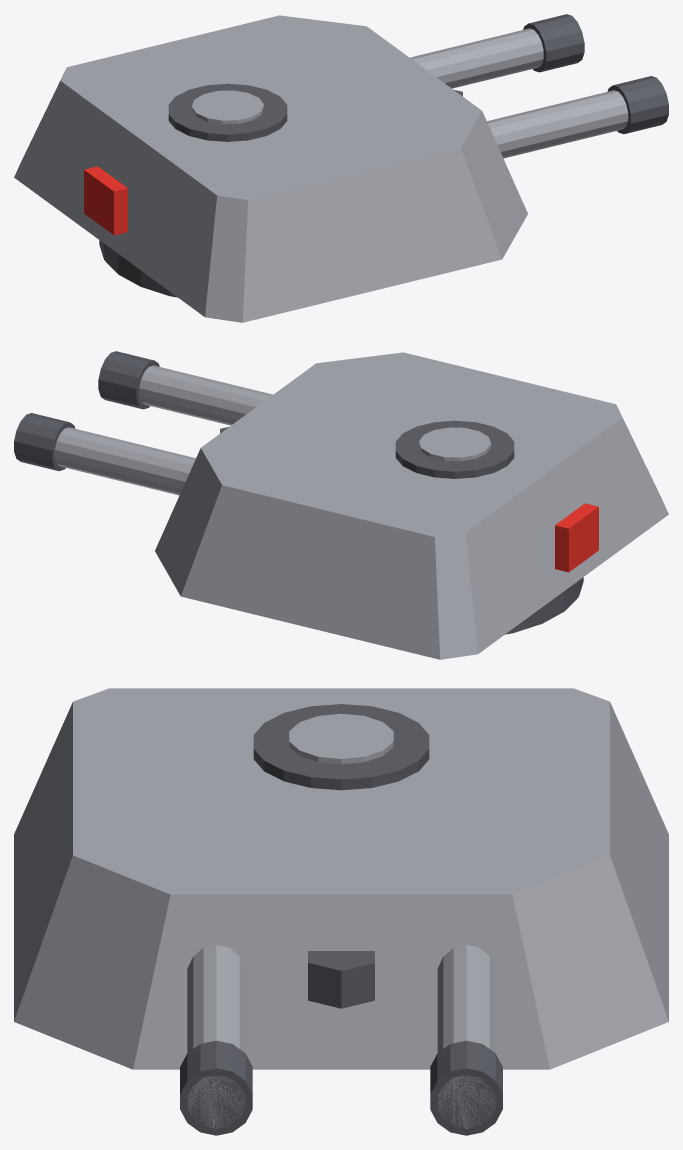
Rendered from vge_egun_gauss_bombard.obj.
The picture shows the model from 3 angles, top to bottom: view 1: azimuth 30°, elevation 25°; view 2: azimuth 150°, elevation 25°; view 3: azimuth 270°, elevation 25°; orthographic projection. The views are drawn at different scales.
Visible parts, largest first — view 1: vge_egun_gauss_bombard_1, vge_egun_gauss_bombard_4, vge_egun_gauss_bombard_7, vge_egun_gauss_bombard_2, vge_egun_gauss_bombard_11, vge_egun_gauss_bombard_8, vge_egun_gauss_bombard_5, vge_egun_gauss_bombard_3, vge_egun_gauss_bombard_0; view 2: vge_egun_gauss_bombard_1, vge_egun_gauss_bombard_7, vge_egun_gauss_bombard_4, vge_egun_gauss_bombard_2, vge_egun_gauss_bombard_11, vge_egun_gauss_bombard_5, vge_egun_gauss_bombard_8, vge_egun_gauss_bombard_3, vge_egun_gauss_bombard_0; view 3: vge_egun_gauss_bombard_1, vge_egun_gauss_bombard_2, vge_egun_gauss_bombard_4, vge_egun_gauss_bombard_7, vge_egun_gauss_bombard_5, vge_egun_gauss_bombard_8, vge_egun_gauss_bombard_3, vge_egun_gauss_bombard_10.
Boxes of the visible parts, x1=… form: vge_egun_gauss_bombard_1: x1=14, y1=15, x2=527, y2=322; vge_egun_gauss_bombard_4: x1=487, y1=90, x2=628, y2=158; vge_egun_gauss_bombard_7: x1=410, y1=28, x2=543, y2=88; vge_egun_gauss_bombard_2: x1=168, y1=83, x2=287, y2=141; vge_egun_gauss_bombard_11: x1=84, y1=166, x2=127, y2=235; vge_egun_gauss_bombard_8: x1=523, y1=14, x2=584, y2=72; vge_egun_gauss_bombard_5: x1=607, y1=76, x2=668, y2=134; vge_egun_gauss_bombard_3: x1=191, y1=90, x2=263, y2=124; vge_egun_gauss_bombard_0: x1=99, y1=240, x2=177, y2=297; vge_egun_gauss_bombard_1: x1=155, y1=352, x2=668, y2=659; vge_egun_gauss_bombard_7: x1=54, y1=427, x2=195, y2=495; vge_egun_gauss_bombard_4: x1=139, y1=365, x2=272, y2=425; vge_egun_gauss_bombard_2: x1=395, y1=420, x2=514, y2=478; vge_egun_gauss_bombard_11: x1=555, y1=503, x2=598, y2=572; vge_egun_gauss_bombard_5: x1=98, y1=351, x2=159, y2=409; vge_egun_gauss_bombard_8: x1=14, y1=413, x2=75, y2=471; vge_egun_gauss_bombard_3: x1=419, y1=427, x2=491, y2=461; vge_egun_gauss_bombard_0: x1=505, y1=577, x2=583, y2=634; vge_egun_gauss_bombard_1: x1=14, y1=688, x2=668, y2=1069; vge_egun_gauss_bombard_2: x1=253, y1=704, x2=429, y2=790; vge_egun_gauss_bombard_4: x1=187, y1=944, x2=245, y2=1128; vge_egun_gauss_bombard_7: x1=437, y1=944, x2=495, y2=1128; vge_egun_gauss_bombard_5: x1=180, y1=1040, x2=252, y2=1135; vge_egun_gauss_bombard_8: x1=430, y1=1040, x2=502, y2=1135; vge_egun_gauss_bombard_3: x1=289, y1=713, x2=393, y2=764; vge_egun_gauss_bombard_10: x1=308, y1=951, x2=374, y2=1008.
Bounding box in the file's own units: 2.96 × 0.78 × 2.2.
